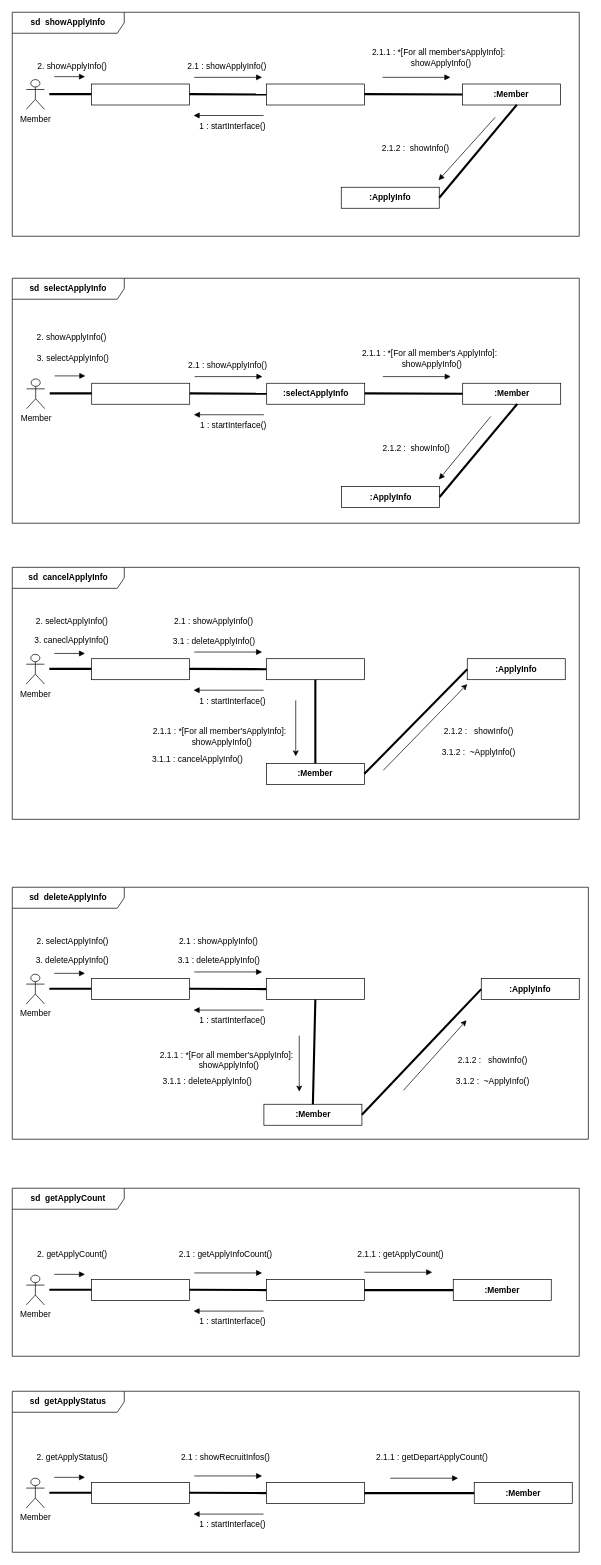
Some shapes in this 601 by 1565 pixel diagram are drawn without their labels. The shapes that lost their labels are listed below. From the top down, each one's centre as x and y in pixels, then its label:
the point at 140,94: : showApplyInfo UI
the point at 315,94: : showApplyInfo
the point at 140,393: : selectApplyInfo UI
the point at 140,669: :cancelApplyInfoUI
the point at 315,669: :cancelApplyInfo
the point at 140,989: :deleteApplyInfoUI
the point at 315,989: :deleteApplyInfo
the point at 140,1290: : getApplyCount UI
the point at 315,1290: : getApplyCount
the point at 140,1493: : getApplyStatusUI
the point at 315,1493: : getApplyStatus
